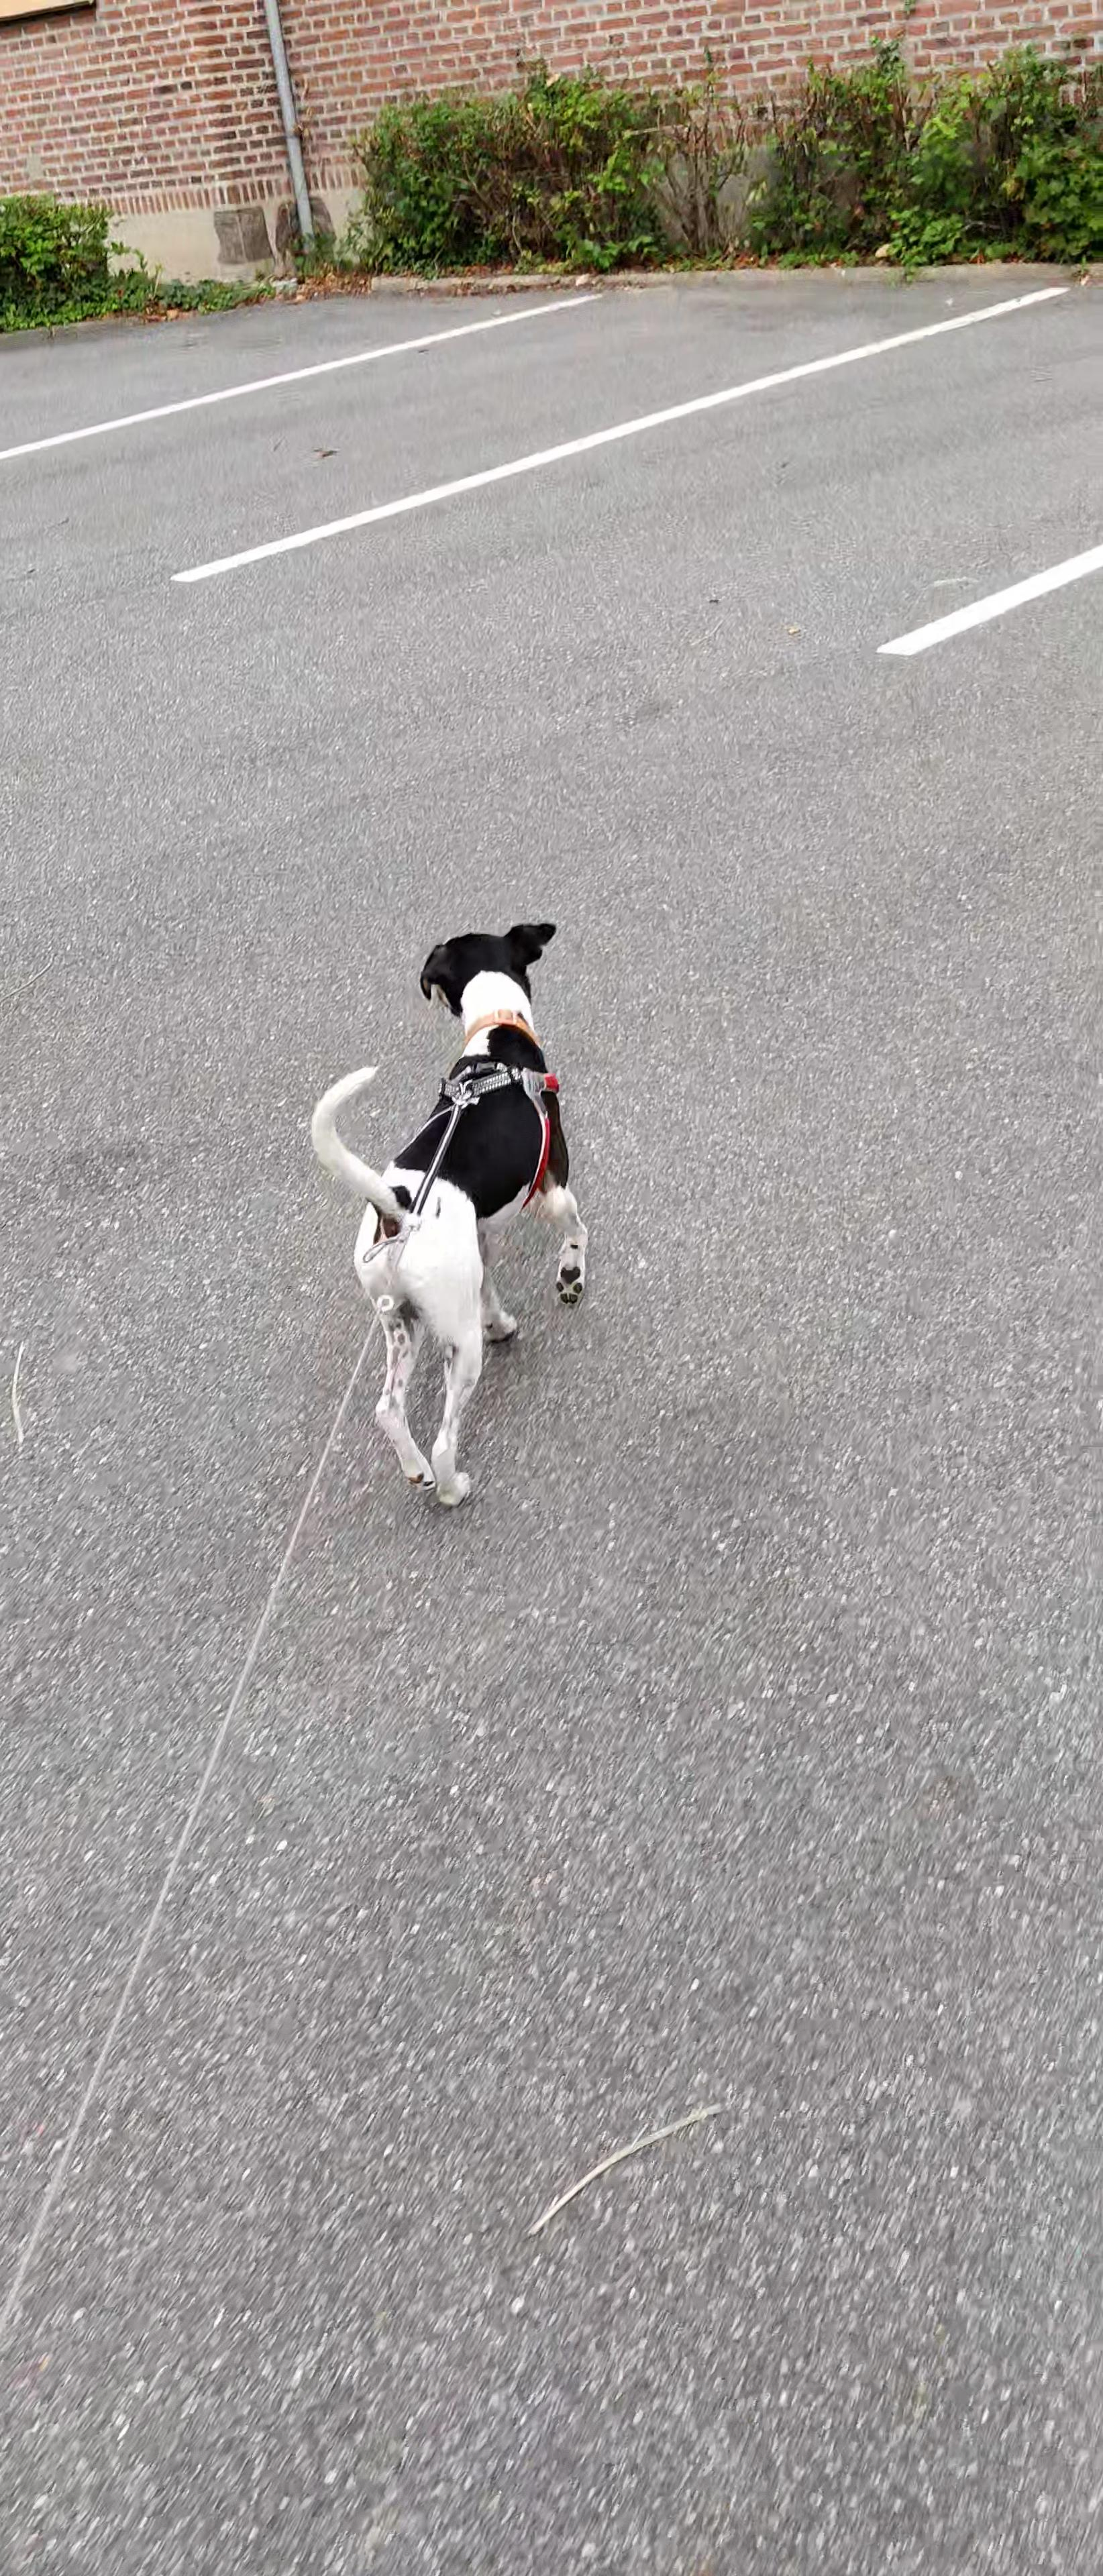Dog: (299, 915, 597, 1520)
